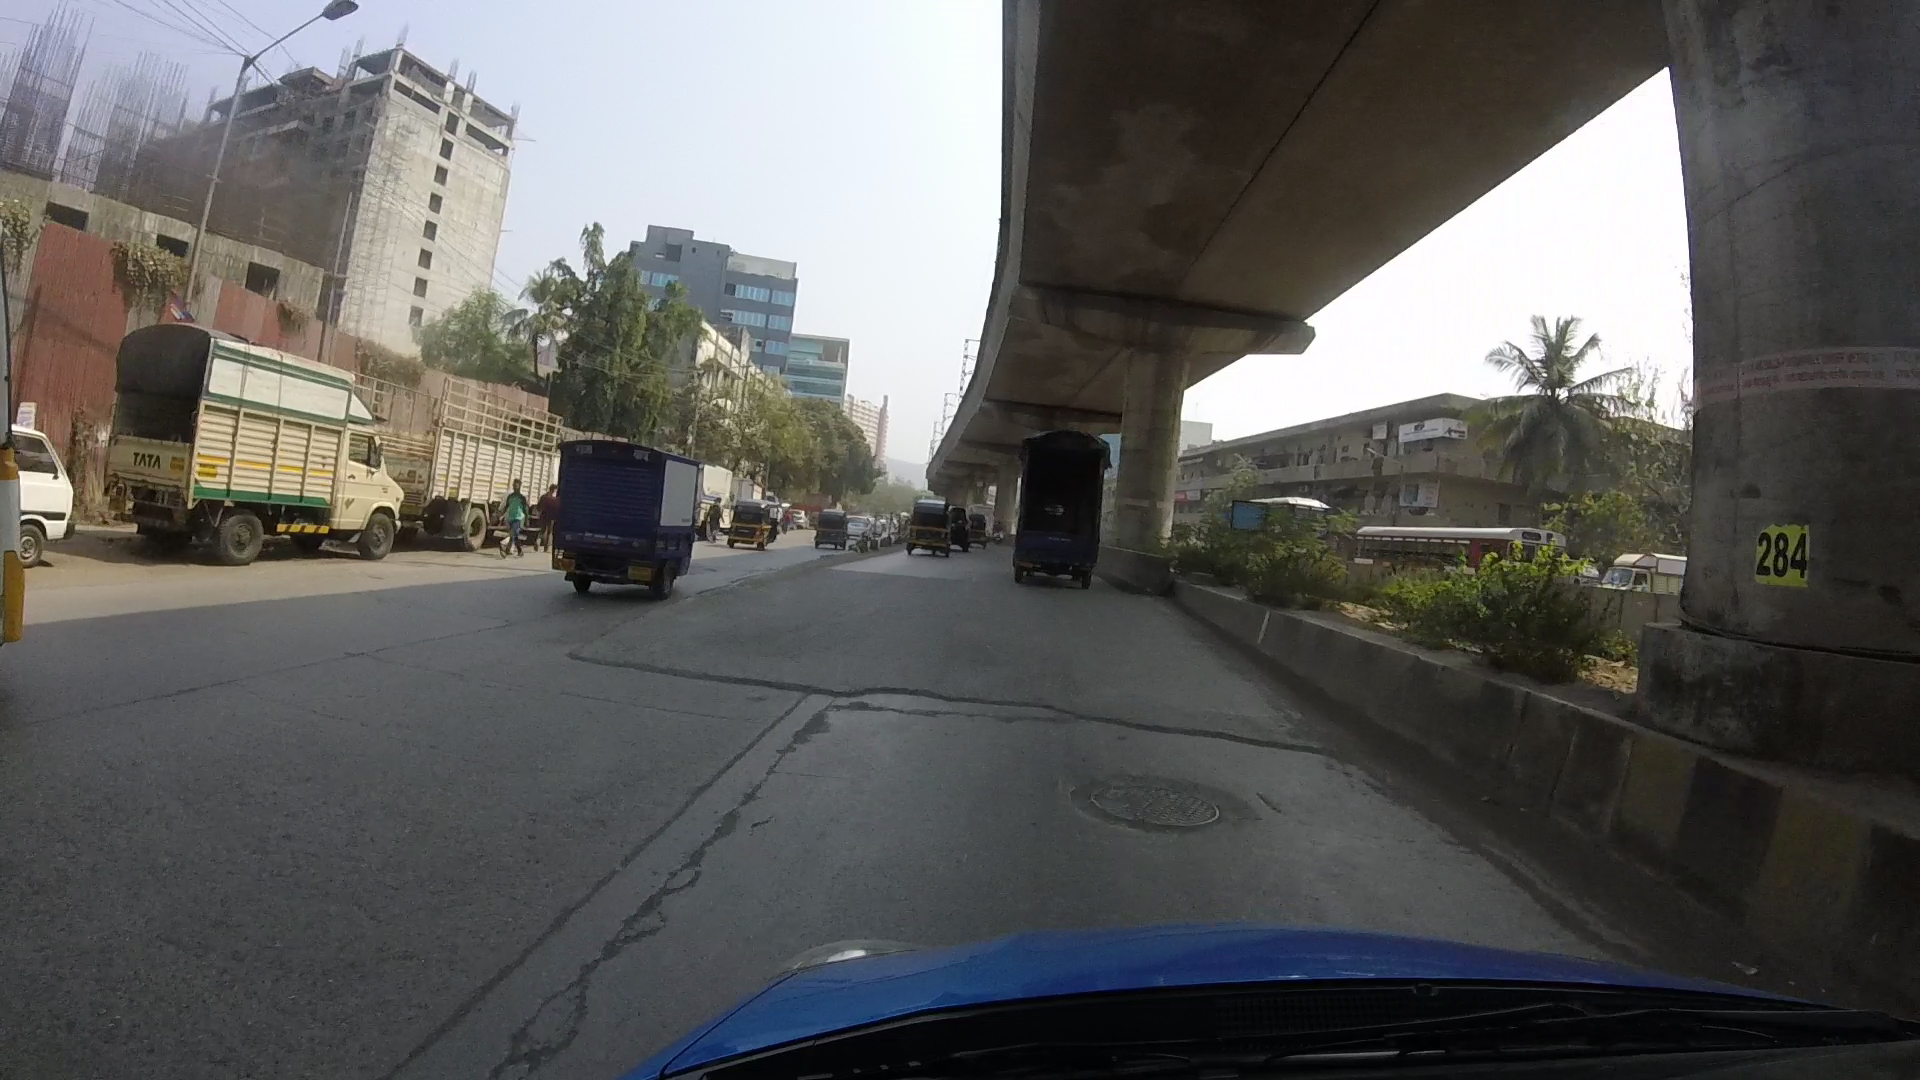bus: (1352, 518, 1553, 578)
car: (13, 427, 76, 566)
rickshaw: (899, 492, 952, 559), (724, 498, 782, 551), (812, 509, 849, 549)
truck: (105, 334, 402, 566), (378, 369, 566, 560), (546, 427, 699, 611), (1011, 427, 1101, 592)
